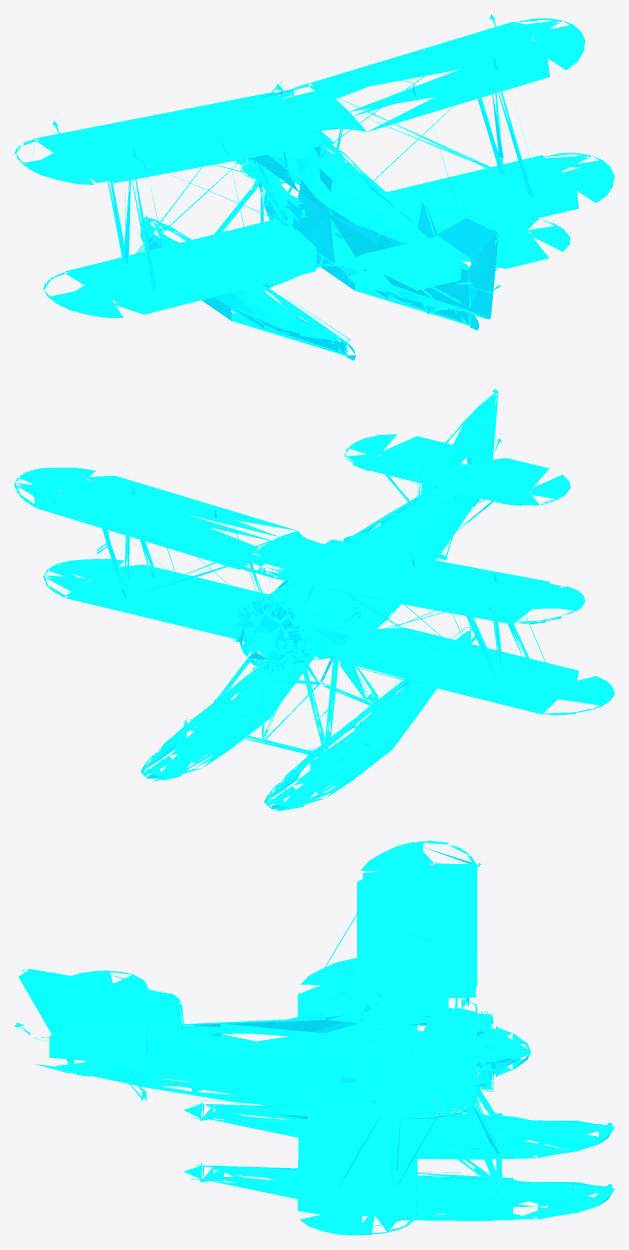
Rendered from PBAF016.glb.
3 renders of one model, top to bottom at view 1: azimuth 30°, elevation 25°; view 2: azimuth 150°, elevation 25°; view 3: azimuth 270°, elevation 25°, orthographic. The views are drawn at different scales.
Parts seen in each view (by area): view 1: misc; view 2: misc; view 3: misc.
Part boxes in pixels (x1,y1,x2,y2): misc: (14, 14, 614, 360); misc: (14, 389, 614, 811); misc: (14, 840, 614, 1235).
Bounding box in the file's own units: 0.5891 × 0.2188 × 0.5402.
